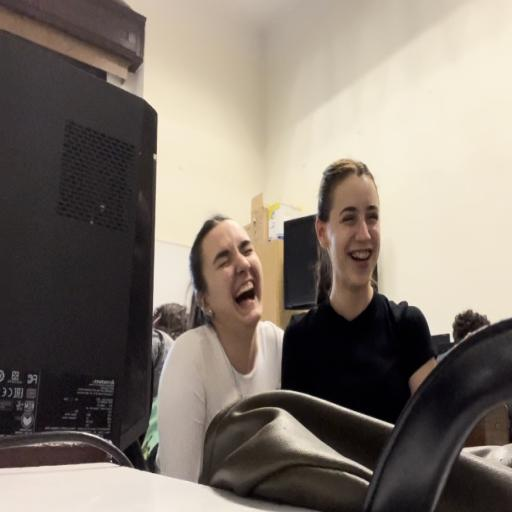masa: (326, 169, 384, 283)
